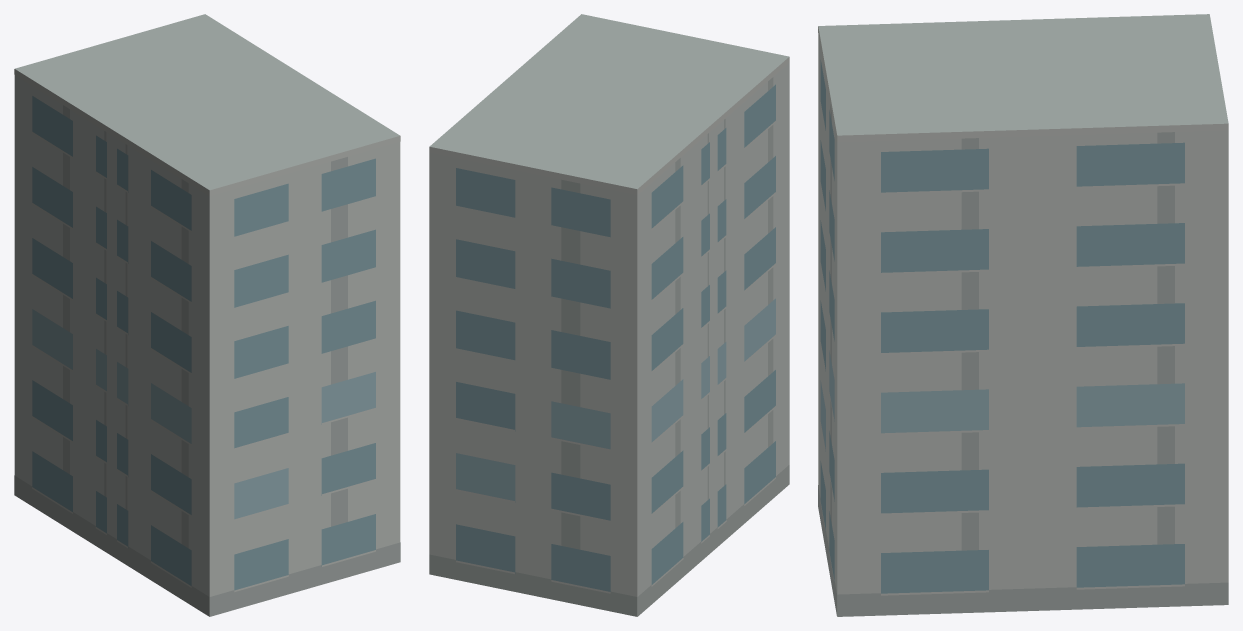
The model's file is survey-upis-32569179.glb.
The picture shows the model from 3 angles, left to right: view 1: azimuth 30°, elevation 25°; view 2: azimuth 150°, elevation 25°; view 3: azimuth 270°, elevation 25°; orthographic projection. The views are drawn at different scales.
Parts seen in each view (by area): view 1: survey-upis-32569179.tmp; view 2: survey-upis-32569179.tmp; view 3: survey-upis-32569179.tmp.
Part boxes in pixels (x1,y1,x2,y2): survey-upis-32569179.tmp: (14, 14, 400, 616); survey-upis-32569179.tmp: (429, 14, 789, 616); survey-upis-32569179.tmp: (818, 14, 1228, 616).
Bounding box in the file's own units: 9.38 × 17.3 × 13.38.
